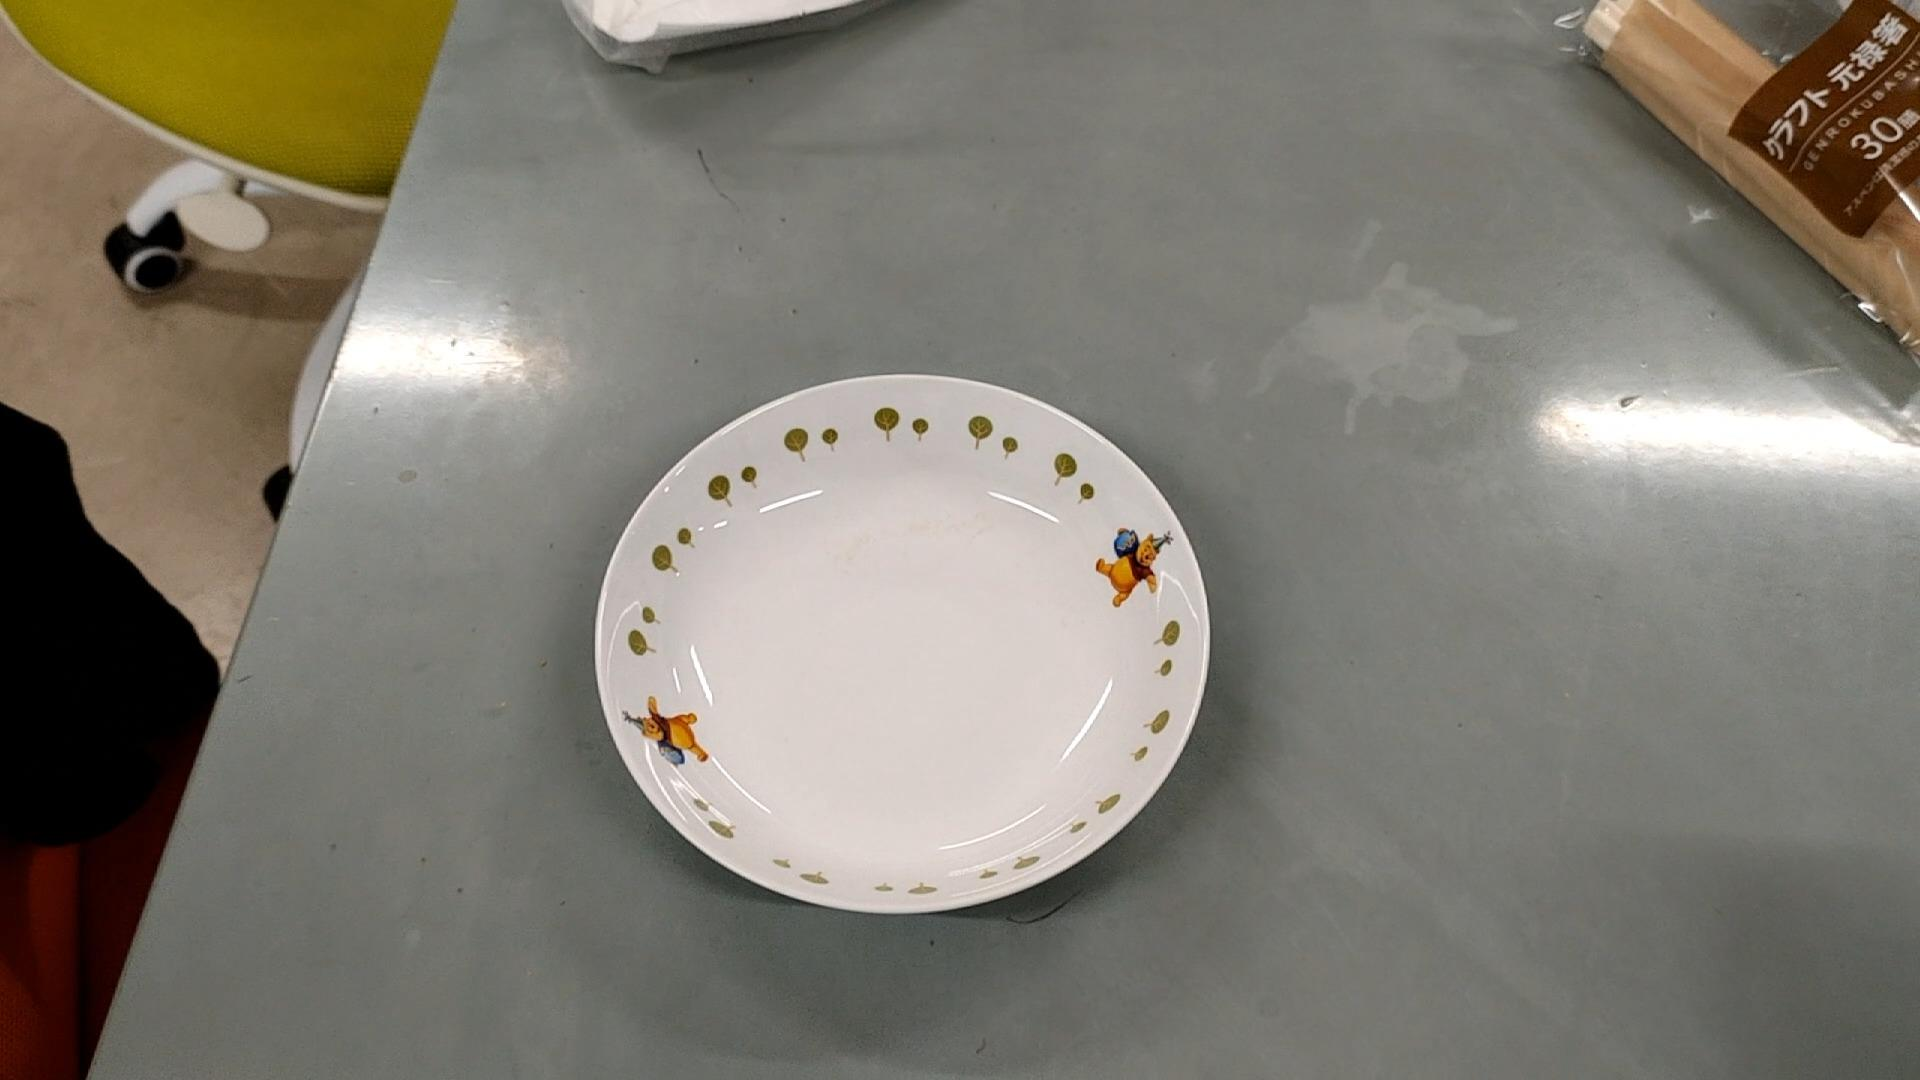plate: (597, 368, 1207, 914)
